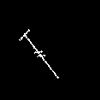treble_crochet: (19, 29, 58, 77)
